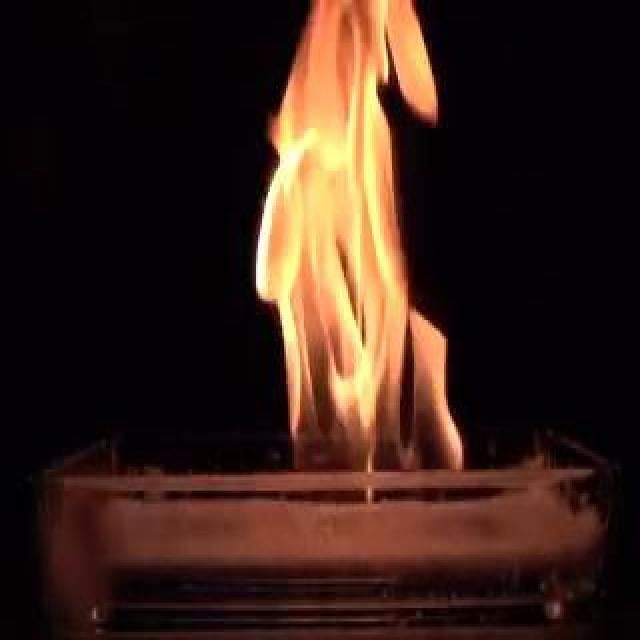Fire: (352, 395, 504, 509)
